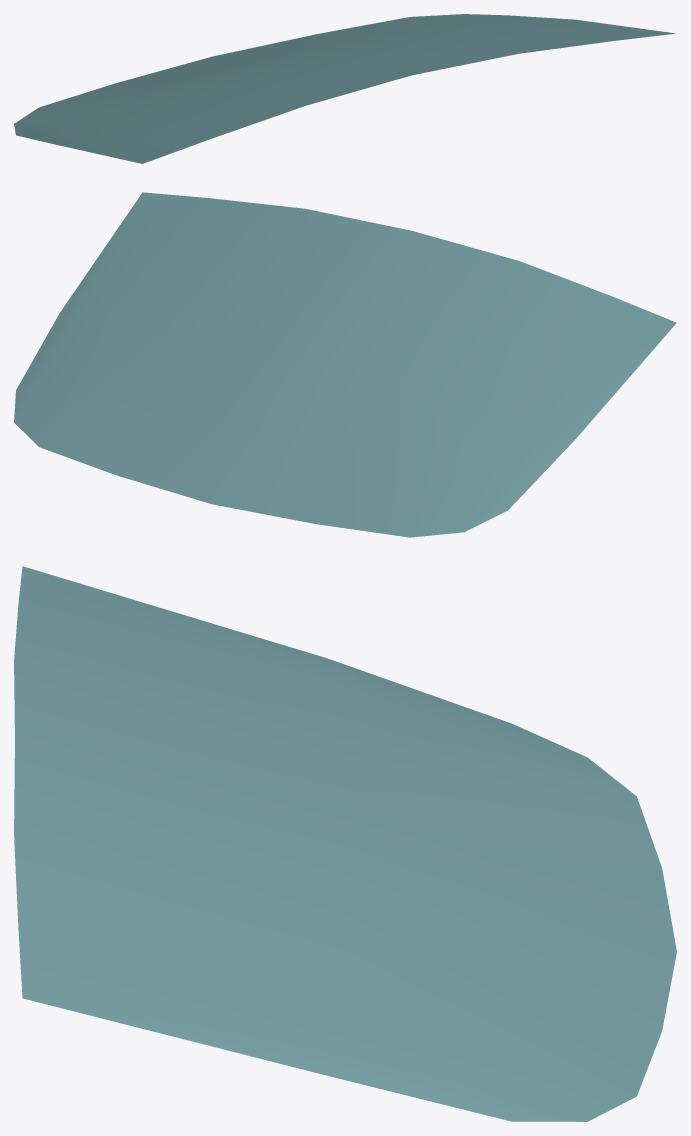
Rendered from Electric_1_Window_Tessellate_B.fbx.
The picture shows the model from 3 angles, top to bottom: view 1: azimuth 30°, elevation 25°; view 2: azimuth 150°, elevation 25°; view 3: azimuth 270°, elevation 25°; orthographic projection. The views are drawn at different scales.
Visible parts, largest first — view 1: Electric_1_Window_Tessellate_B; view 2: Electric_1_Window_Tessellate_B; view 3: Electric_1_Window_Tessellate_B.
Boxes of the visible parts, bbox=[...] form: Electric_1_Window_Tessellate_B: bbox=[14, 14, 675, 163]; Electric_1_Window_Tessellate_B: bbox=[14, 192, 676, 537]; Electric_1_Window_Tessellate_B: bbox=[14, 566, 676, 1121].
Bounding box in the file's own units: 115 × 26.2 × 74.56.
